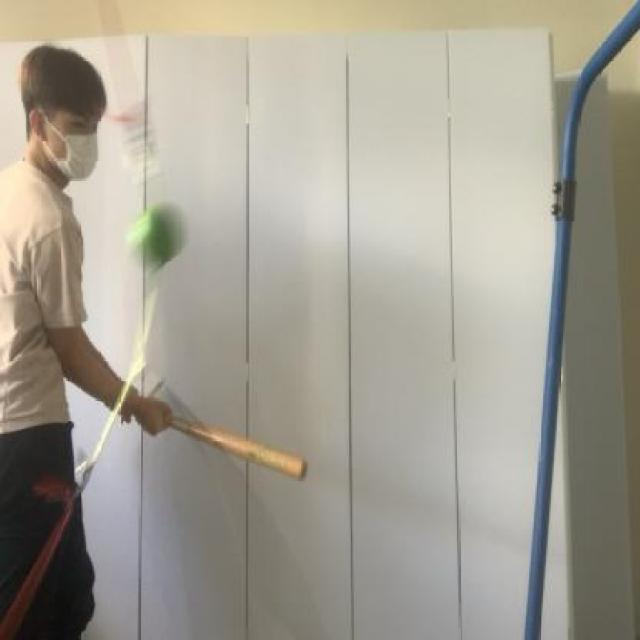baseball: (122, 193, 202, 289)
